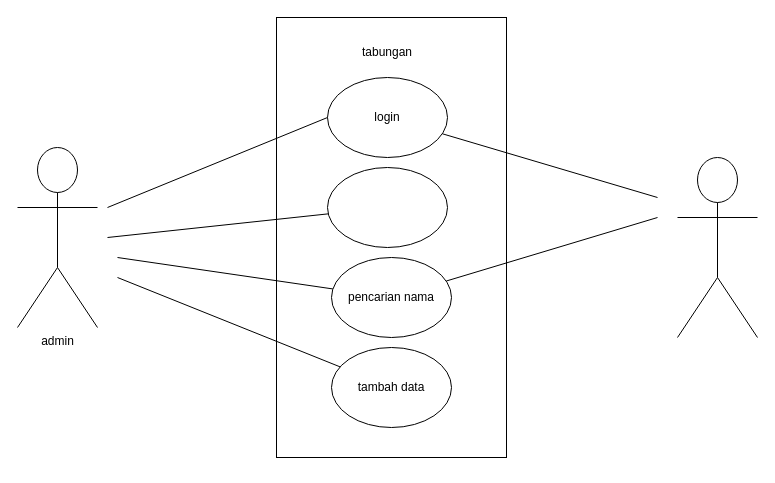
This 775x483 diagram has some shape labels left out. Here are the shapes that lost their labels. From the top down, the centre of each, then its label:
At point 387,207: "form tabungan".
At point 717,247: "Siswa".
